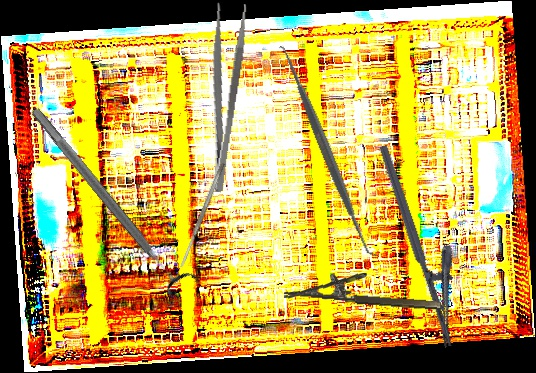Dressing Forceps: (193, 0, 251, 194)
Fixation Ring: (20, 97, 199, 301)
Needle Holder: (377, 135, 482, 349), (283, 266, 443, 312)
Spatula Surgical: (271, 39, 383, 264), (178, 161, 226, 269)
